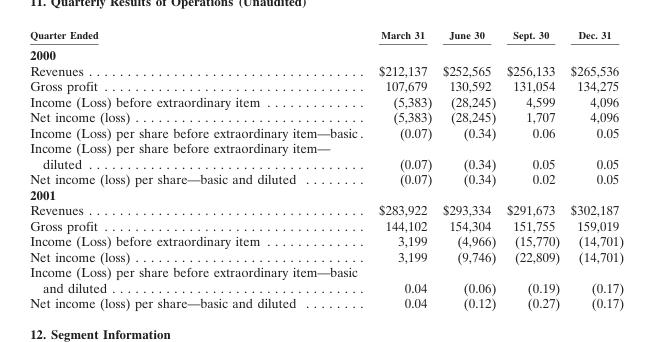table: (29, 28, 623, 310)
table column: (29, 28, 370, 310), (370, 28, 436, 310), (436, 28, 500, 310), (500, 28, 564, 310), (564, 28, 623, 310)
table column header: (29, 28, 623, 43)
table projected row header: (29, 43, 623, 62), (29, 186, 623, 201)
table row: (29, 139, 623, 170), (29, 263, 623, 294), (29, 43, 623, 62), (29, 77, 623, 93), (29, 108, 623, 124), (29, 170, 623, 186), (29, 201, 623, 217), (29, 232, 623, 248), (29, 294, 623, 310), (29, 28, 623, 43), (29, 62, 623, 77), (29, 93, 623, 108), (29, 124, 623, 139), (29, 186, 623, 201), (29, 217, 623, 232), (29, 248, 623, 263)
